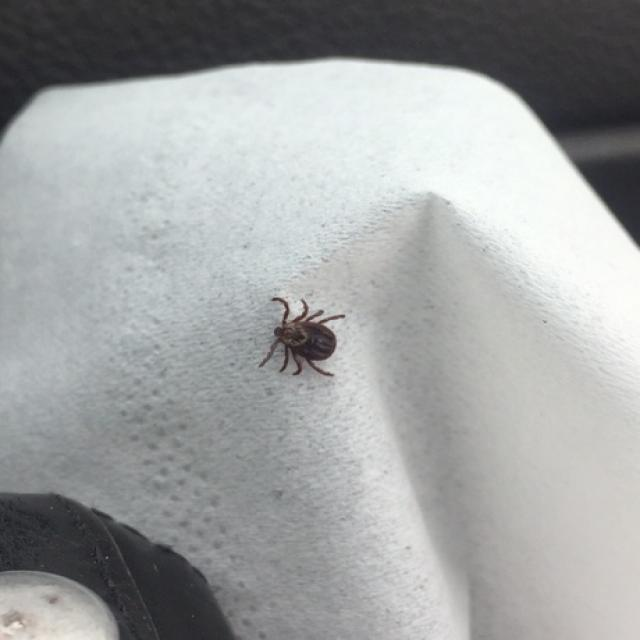Dermacentor Reticulatus-F: (257, 297, 345, 379)
